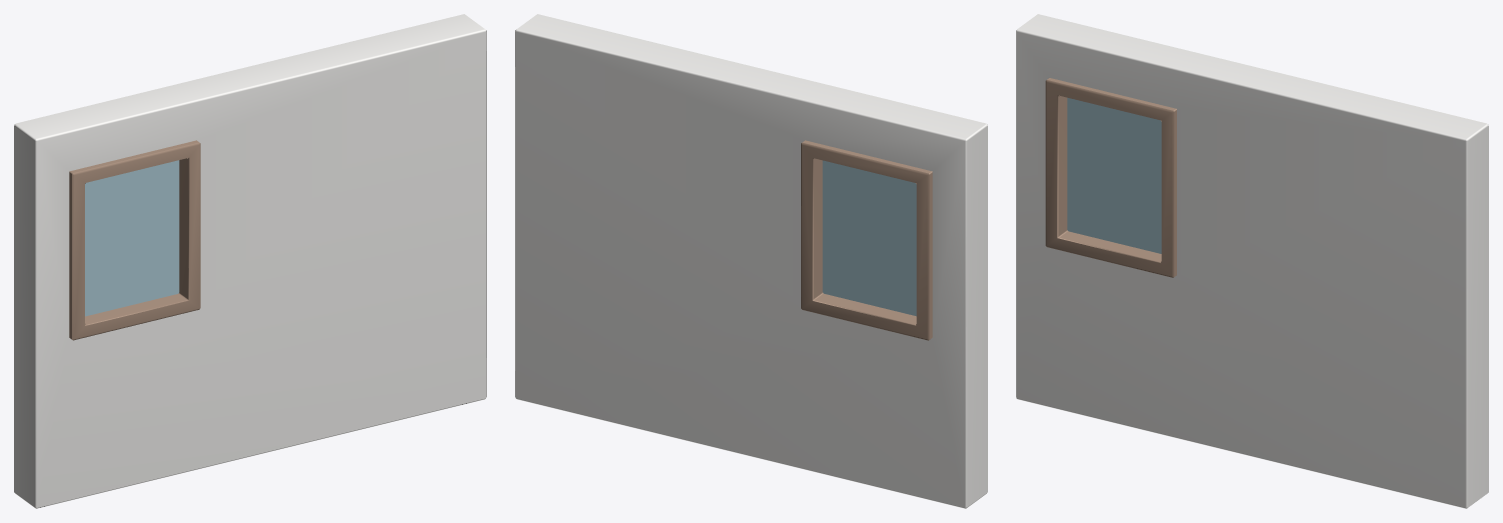
Rendered from Wall_29.glb.
3 views of the same model, side by side, from view 1: azimuth 30°, elevation 25°; view 2: azimuth 150°, elevation 25°; view 3: azimuth 330°, elevation 25° (orthographic).
Visible parts, largest first — view 1: Wall_29; view 2: Wall_29; view 3: Wall_29.
Part boxes in pixels (<box>): Wall_29: <box>14,14,486,508</box>; Wall_29: <box>515,14,987,508</box>; Wall_29: <box>1016,14,1488,508</box>.
Bounding box in the file's own units: 4.6 × 3.6 × 0.5258.
Materials: 2 (2 with a texture image).
